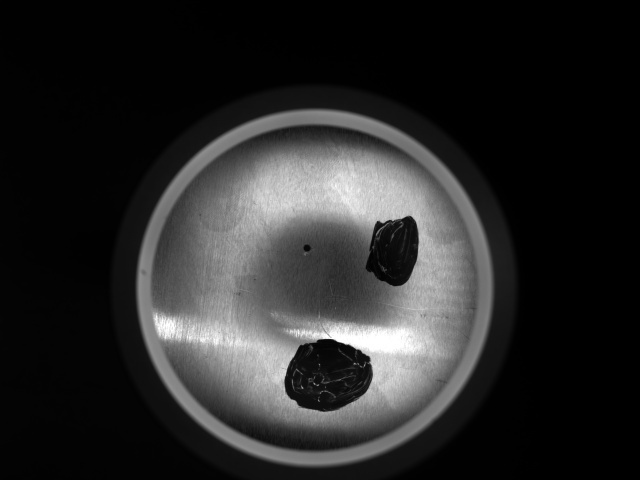zang_wu: (281, 336, 379, 412), (361, 214, 421, 285)
zhen_kong: (299, 240, 316, 257)
